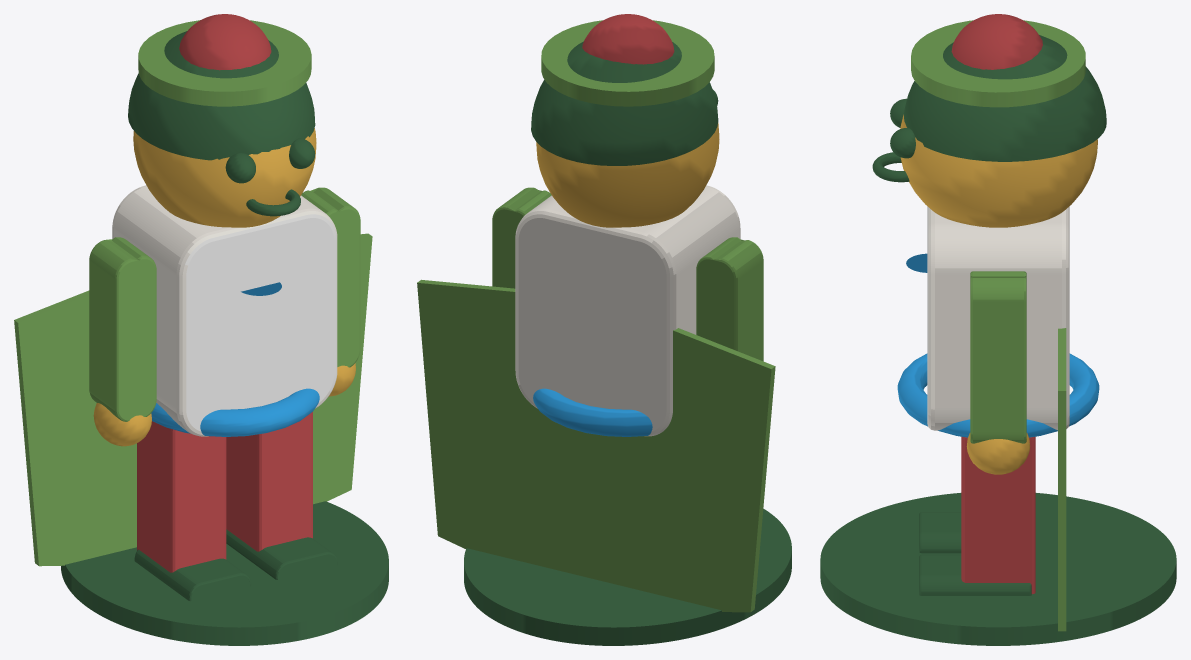
The model's file is 1313_中国古代寓言_梁惠王.glb.
The picture shows the model from 3 angles, left to right: view 1: azimuth 30°, elevation 25°; view 2: azimuth 150°, elevation 25°; view 3: azimuth 270°, elevation 25°; orthographic projection.
Parts seen in each view (by area): view 1: card_1313; view 2: card_1313; view 3: card_1313.
Part boxes in pixels (bbox=[...]): card_1313: bbox=[14, 14, 388, 645]; card_1313: bbox=[417, 14, 791, 645]; card_1313: bbox=[820, 14, 1176, 645].
Bounding box in the file's own units: 0.6549 × 1 × 0.5649.
